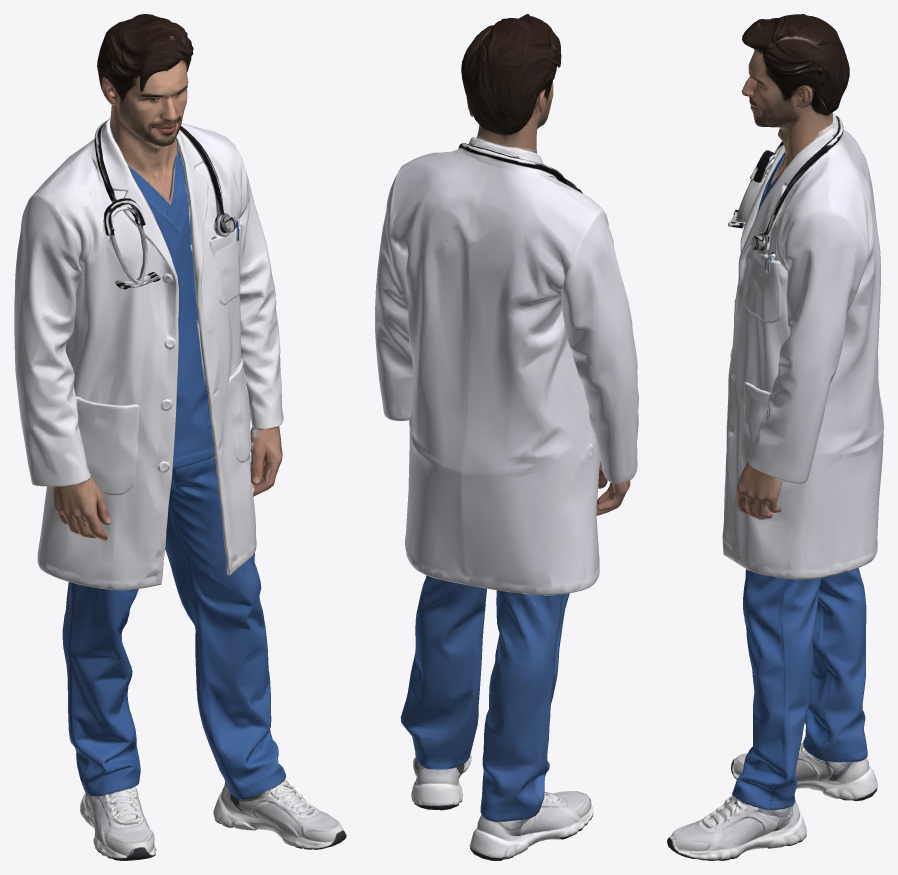
3 renders of one model, left to right at view 1: azimuth 30°, elevation 25°; view 2: azimuth 150°, elevation 25°; view 3: azimuth 270°, elevation 25°, orthographic. The views are drawn at different scales.
Parts seen in each view (by area): view 1: dr1; view 2: dr1; view 3: dr1.
Boxes of the visible parts, x1,y1,x2,y2 form: dr1: (14,14,346,860); dr1: (375,14,638,860); dr1: (667,14,883,860).
Size of the model in its own units: 0.6471 by 1.9 by 0.4784.
1 material, 1 textured.
